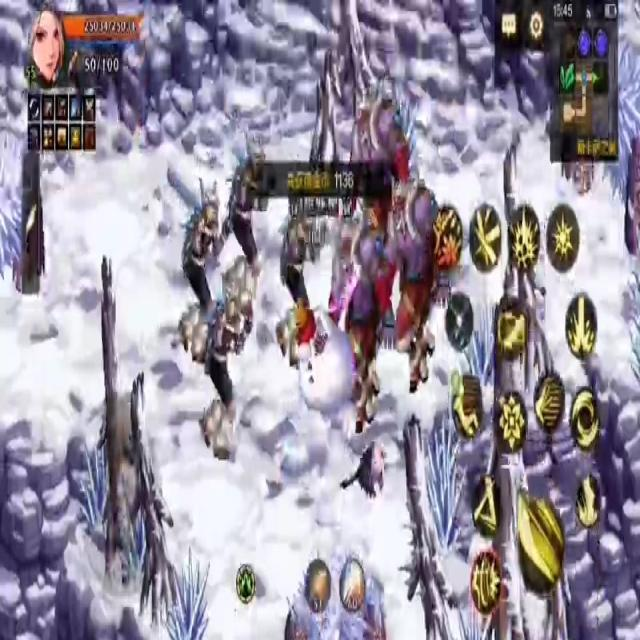player: (292, 292, 360, 441)
